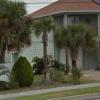Palm tree: (34, 16, 87, 80)
